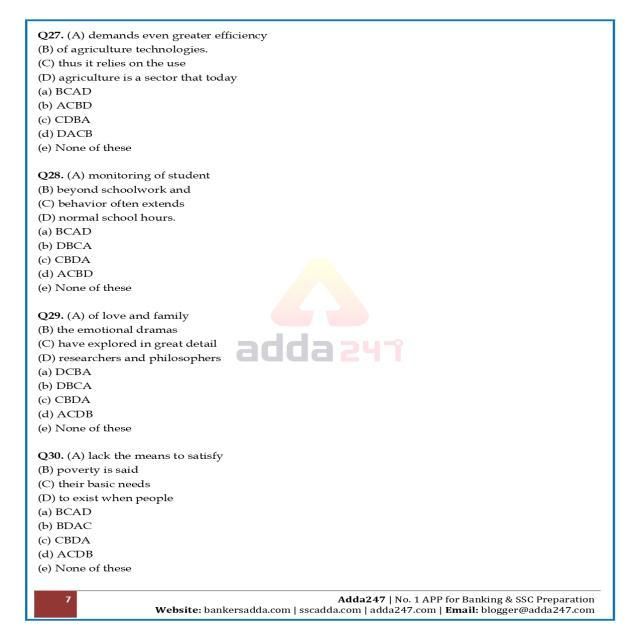Answer_Block: (26, 360, 612, 438), (26, 85, 612, 159), (26, 224, 612, 298), (26, 506, 612, 578)
Question_Answer_Block: (26, 18, 612, 158), (26, 440, 612, 579), (26, 162, 612, 298), (26, 302, 612, 438)
Question_Block: (26, 17, 612, 85), (26, 439, 612, 506), (26, 162, 612, 225), (26, 302, 612, 362)
Question_Paper_Area: (26, 18, 612, 622)
